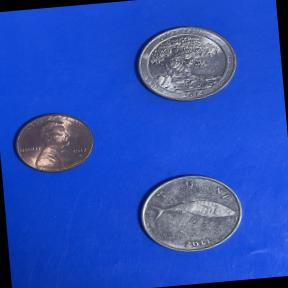Croatia-2Kune-B: (132, 168, 250, 260)
US-1cent-B: (6, 107, 102, 181)
US-25cent-B: (128, 16, 244, 111)
